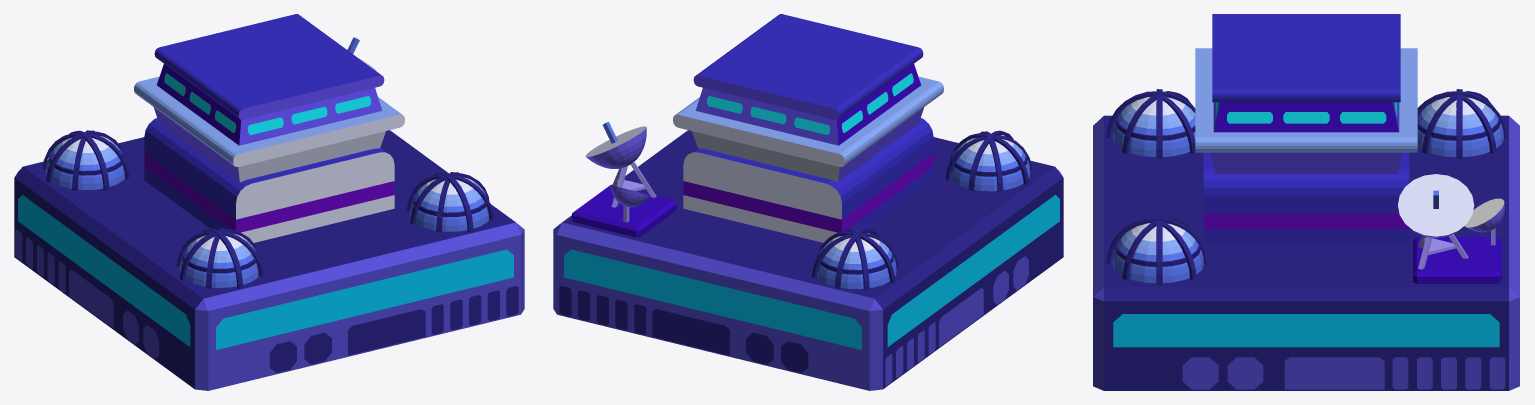
Rendered from Building_049.fbx.
The picture shows the model from 3 angles, left to right: view 1: azimuth 30°, elevation 25°; view 2: azimuth 150°, elevation 25°; view 3: azimuth 270°, elevation 25°; orthographic projection. The views are drawn at different scales.
Parts seen in each view (by area): view 1: Building_049; view 2: Building_049; view 3: Building_049.
Part boxes in pixels (box(x1,y1,x2,y2)): Building_049: box(14, 14, 524, 390); Building_049: box(553, 14, 1063, 390); Building_049: box(1093, 14, 1519, 390).
Size of the model in its own units: 16.15 by 10.34 by 16.15.
